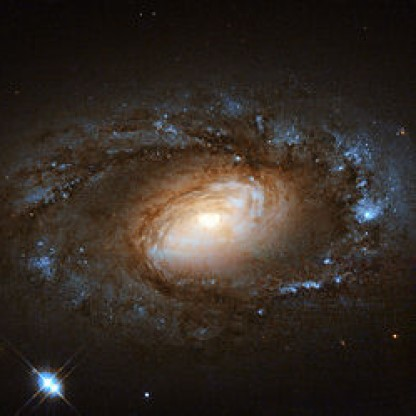NGC 4102: (8, 70, 399, 399)
